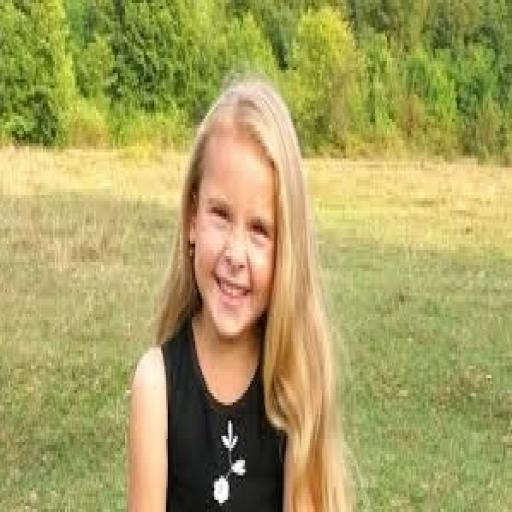laughing: (122, 67, 356, 506)
